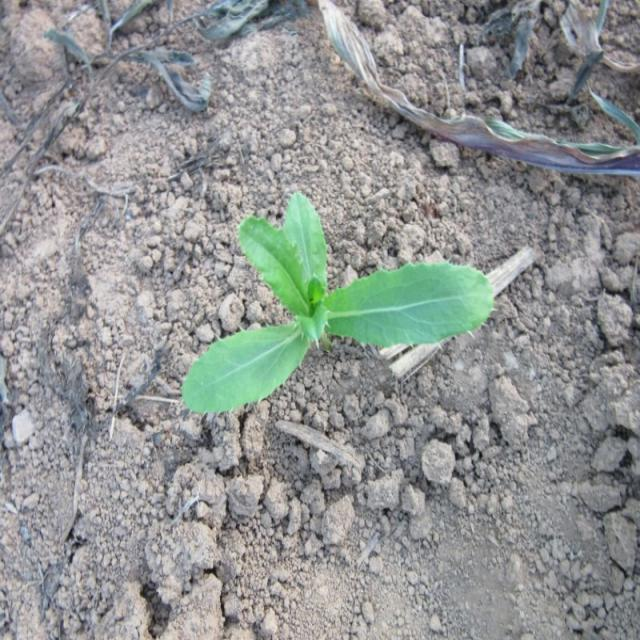cs: (178, 187, 498, 419)
